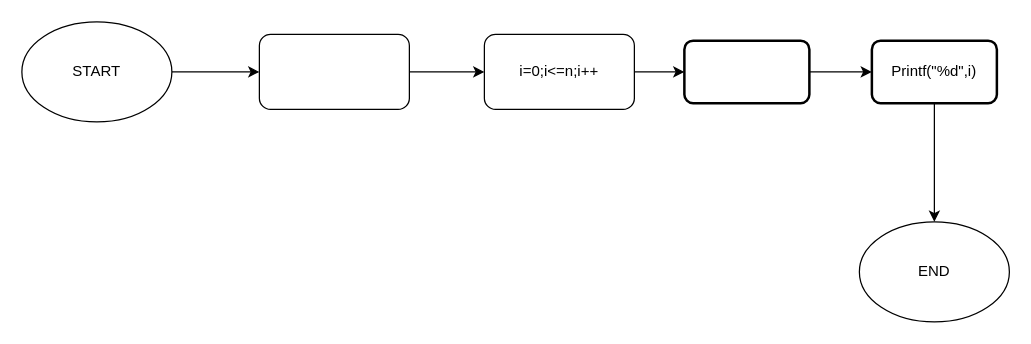
Image size: 1031x344. Some labels were removed from this diagram. The shapes that lost their labels are listed below. From the top down, each one's box as (x1, y1, x2, y2) in pixels, then its label:
(258, 33, 409, 109): input n;
(682, 39, 810, 104): n%i
